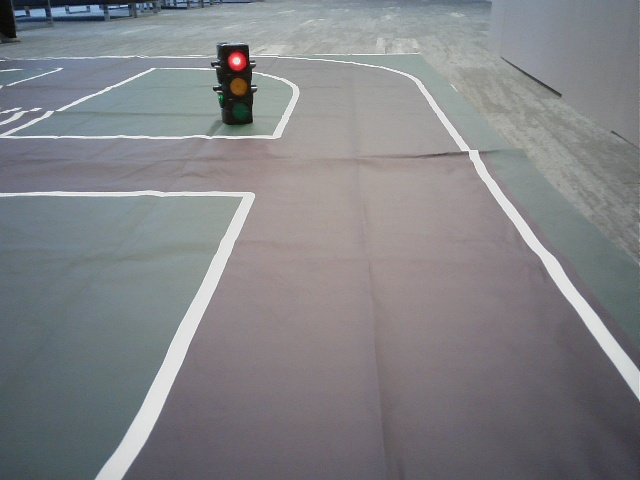red: (224, 47, 249, 121)
